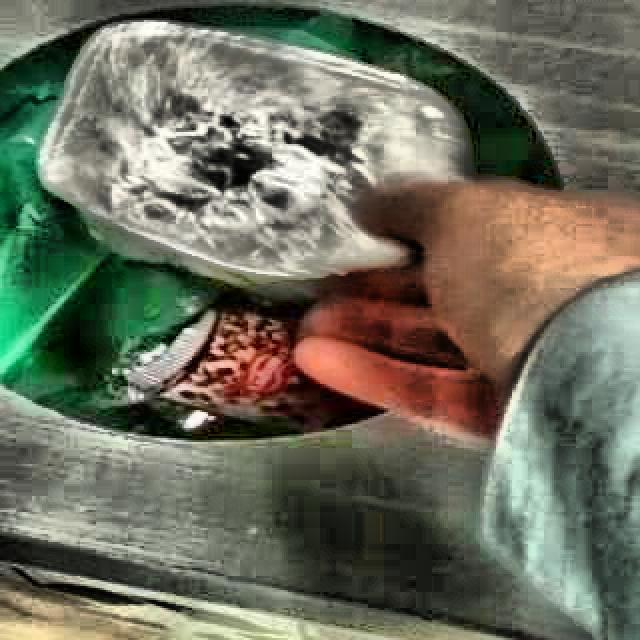metal: (37, 18, 472, 299)
